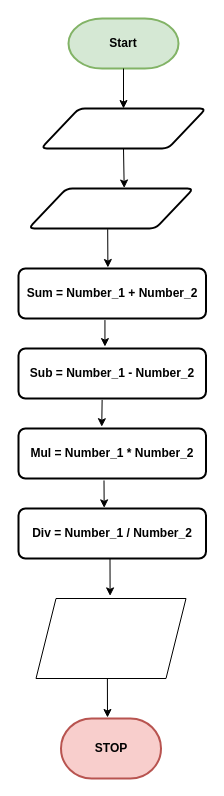
This 224x796 diagram has some shape labels left out. Here are the shapes that lost their labels. From the top down, the centre of each, then its label:
[123,128]: Input Number_1
[110,208]: Input Number_2
[110,638]: Display Value - Sum - Sub - Mul - Div
